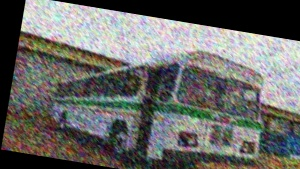bus: (44, 27, 272, 169)
